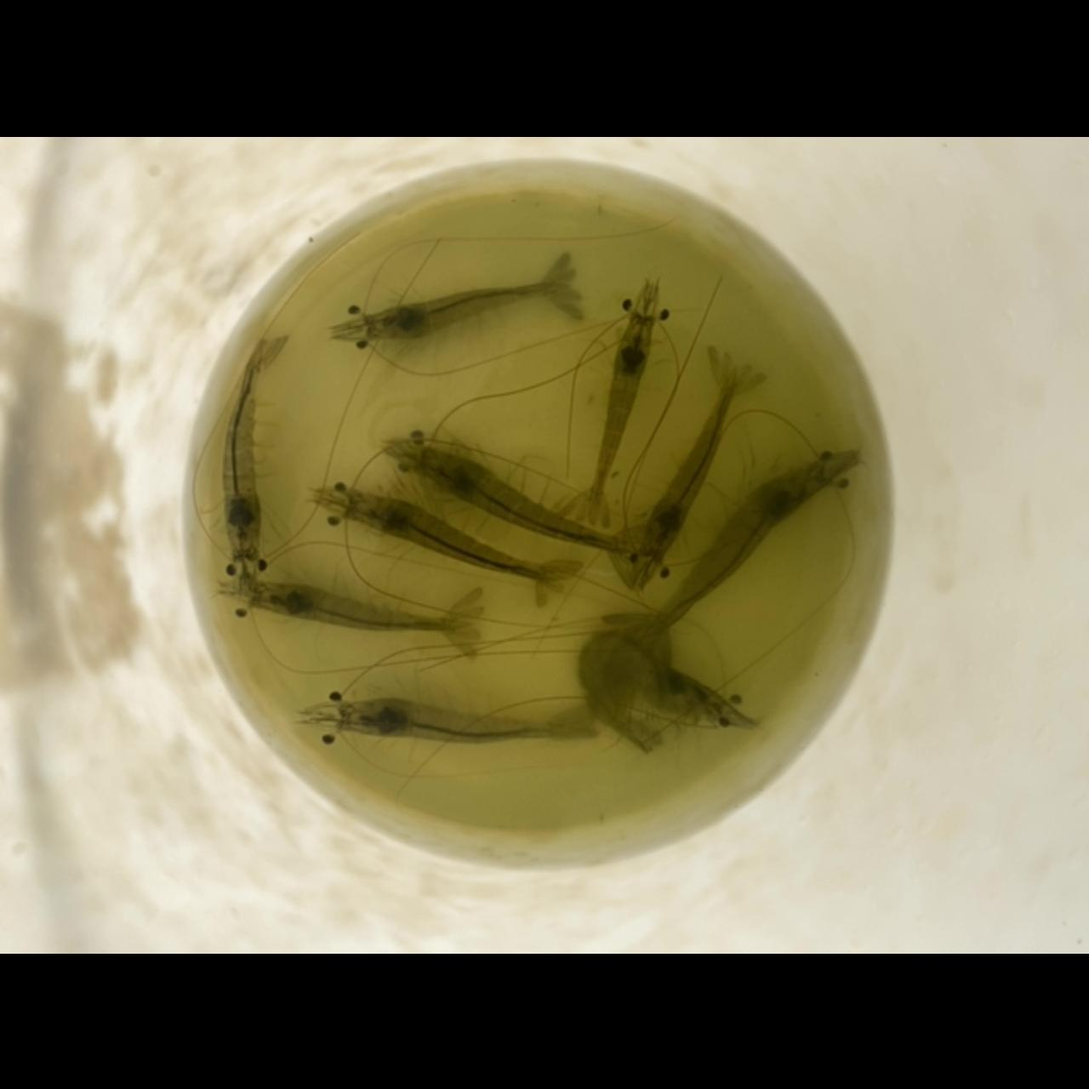round_base: (207, 196, 854, 830)
side_shrimp: (580, 631, 723, 733)
top_shrimp: (642, 462, 827, 639), (419, 448, 634, 552), (347, 493, 560, 581), (641, 367, 735, 558), (590, 316, 652, 513), (368, 282, 568, 339), (342, 696, 579, 744), (250, 581, 472, 631), (225, 348, 261, 556)
